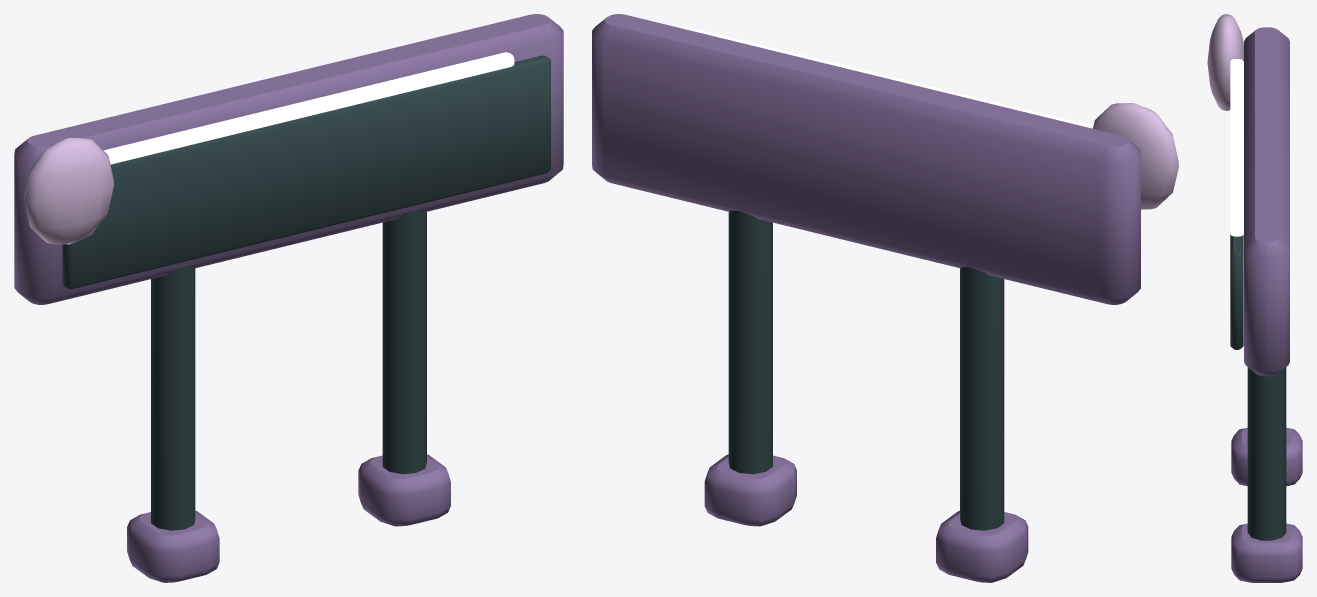
The model's file is sign_4.glb.
3 views of the same model, side by side, from view 1: azimuth 30°, elevation 25°; view 2: azimuth 150°, elevation 25°; view 3: azimuth 270°, elevation 25° (orthographic). The views are drawn at different scales.
Visible parts, largest first — view 1: Sign; view 2: Sign; view 3: Sign.
Part boxes in pixels (x1,y1,x2,y2): Sign: (14, 14, 563, 582); Sign: (592, 14, 1178, 582); Sign: (1207, 14, 1302, 582).
Size of the model in its own units: 2.85 by 2.33 by 0.495.
